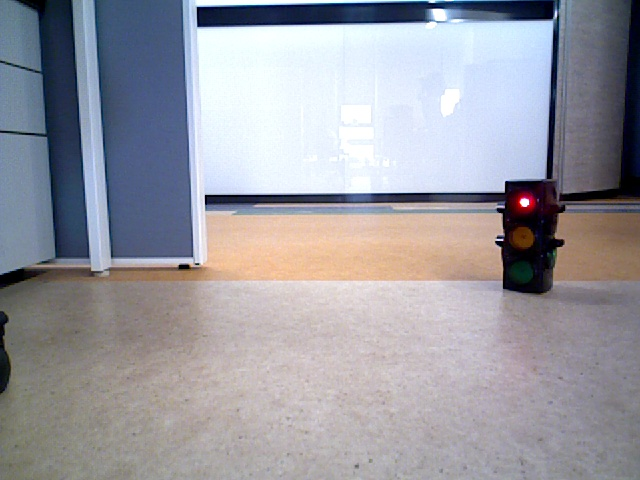red: (505, 180, 546, 293)
